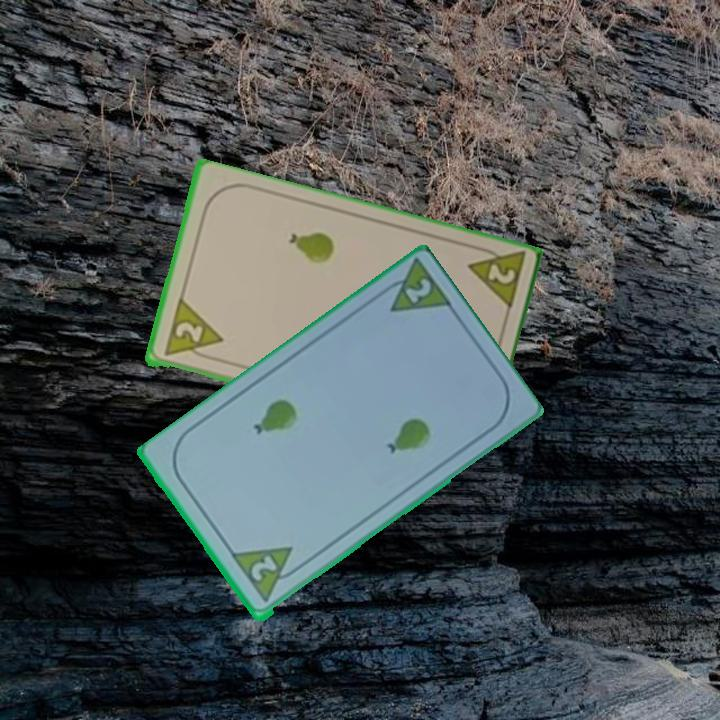2p: (228, 543, 307, 606), (372, 258, 456, 316), (463, 242, 528, 316), (160, 297, 225, 365)
